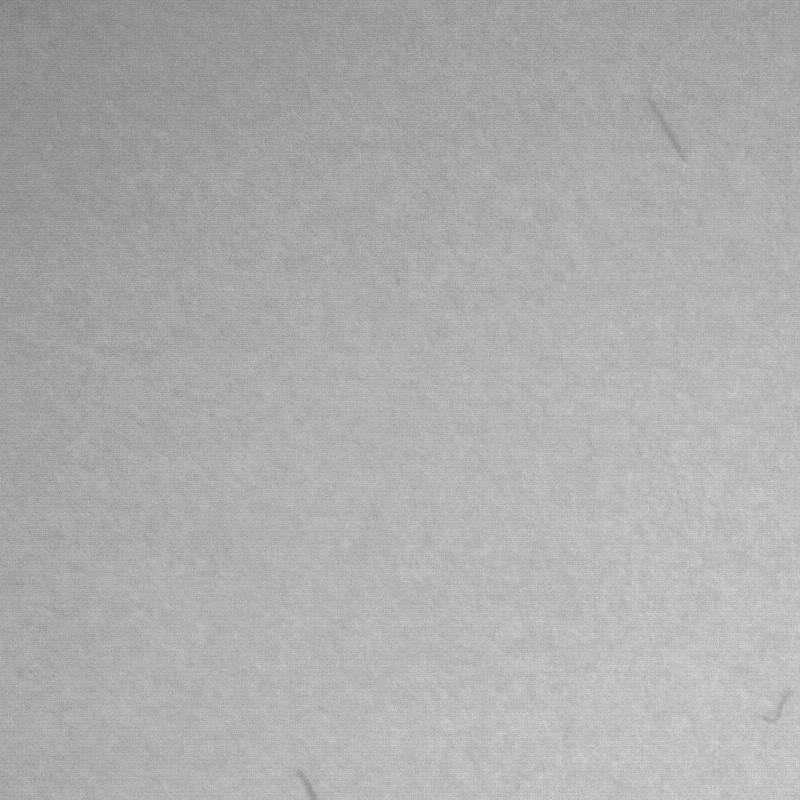defect: (649, 100, 686, 166), (763, 692, 795, 721), (297, 770, 315, 796)
